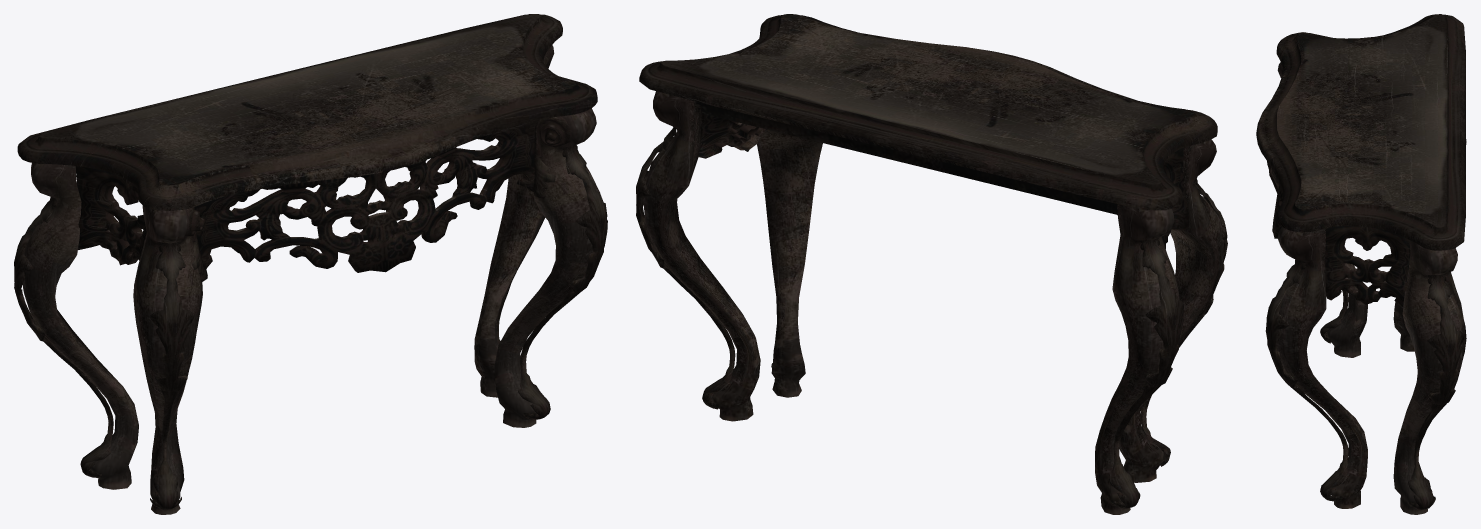
Rendered from ClassicConsole_01.glb.
The picture shows the model from 3 angles, left to right: view 1: azimuth 30°, elevation 25°; view 2: azimuth 150°, elevation 25°; view 3: azimuth 270°, elevation 25°; orthographic projection. The views are drawn at different scales.
Parts seen in each view (by area): view 1: ClassicConsole_01; view 2: ClassicConsole_01; view 3: ClassicConsole_01.
Part boxes in pixels (bbox=[...]): ClassicConsole_01: bbox=[14, 14, 607, 514]; ClassicConsole_01: bbox=[636, 14, 1227, 514]; ClassicConsole_01: bbox=[1256, 14, 1466, 514].
Bounding box in the file's own units: 1.54 × 0.9491 × 0.5892.
1 material, 1 textured.
